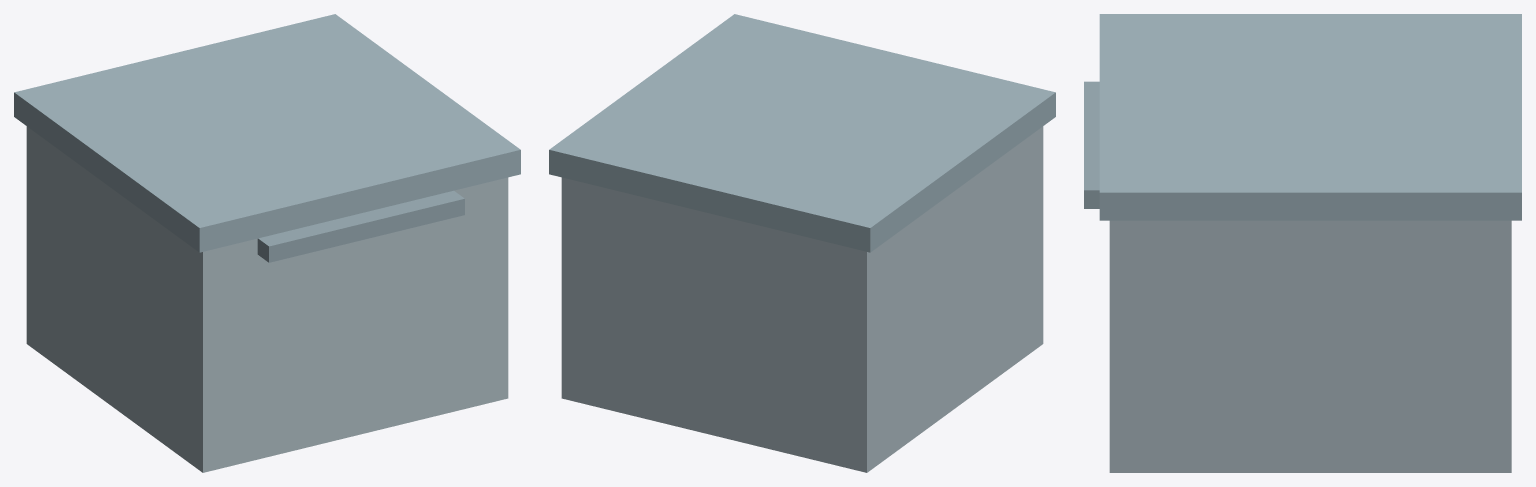
The model's file is com_future_00.glb.
3 views of the same model, side by side, from view 1: azimuth 30°, elevation 25°; view 2: azimuth 150°, elevation 25°; view 3: azimuth 270°, elevation 25° (orthographic). The views are drawn at different scales.
Bounding box in the file's own units: 0.82 × 0.61 × 0.85.
